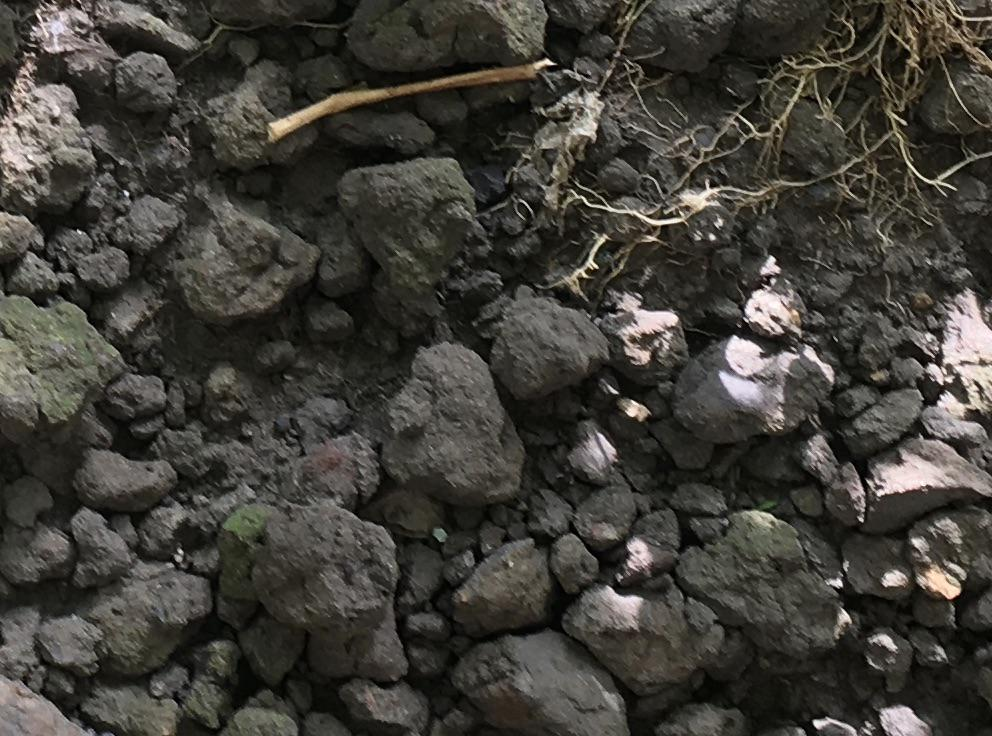block: (672, 502, 851, 667), (379, 339, 528, 506), (219, 503, 397, 628), (330, 155, 479, 290), (450, 628, 635, 736), (560, 575, 722, 697), (1, 293, 129, 435), (492, 294, 610, 402)
